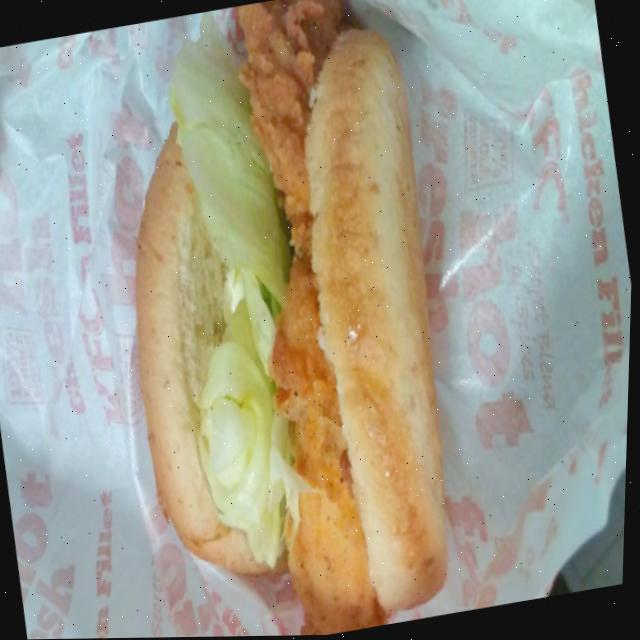汉堡快餐: (74, 0, 495, 639)
